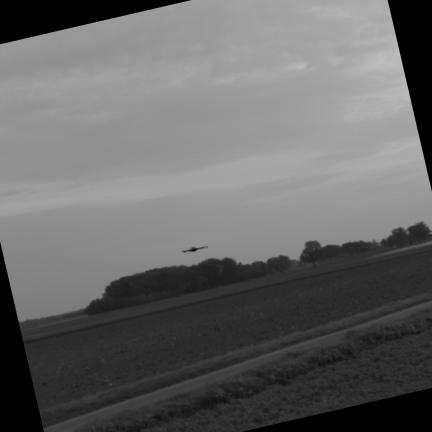Shahed: (182, 246, 208, 252)
